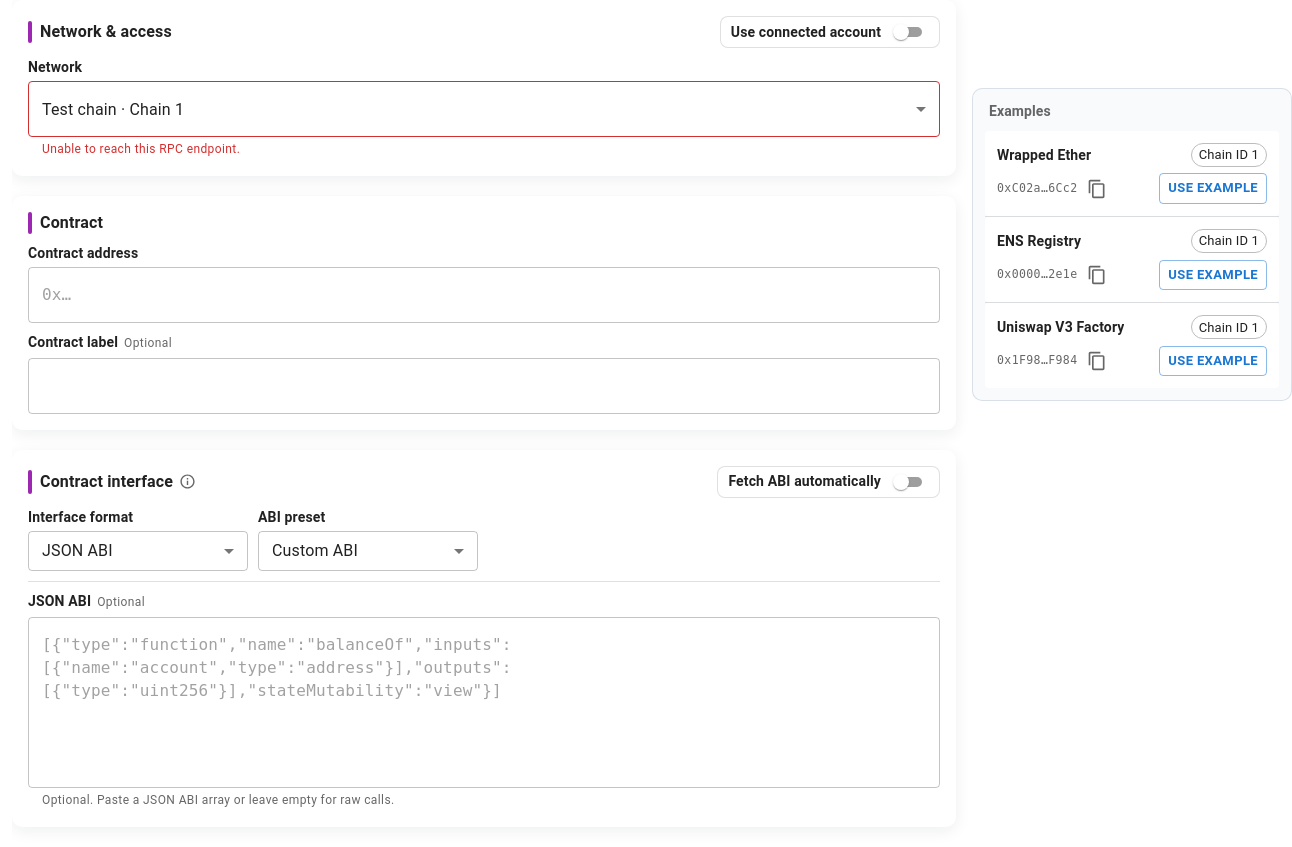
it: ContractManager › keeps browser wallet access selected when an example fills the form
Click the checkbox labelled "Use connected account".
click(830, 32)  # box [720,16,940,48]
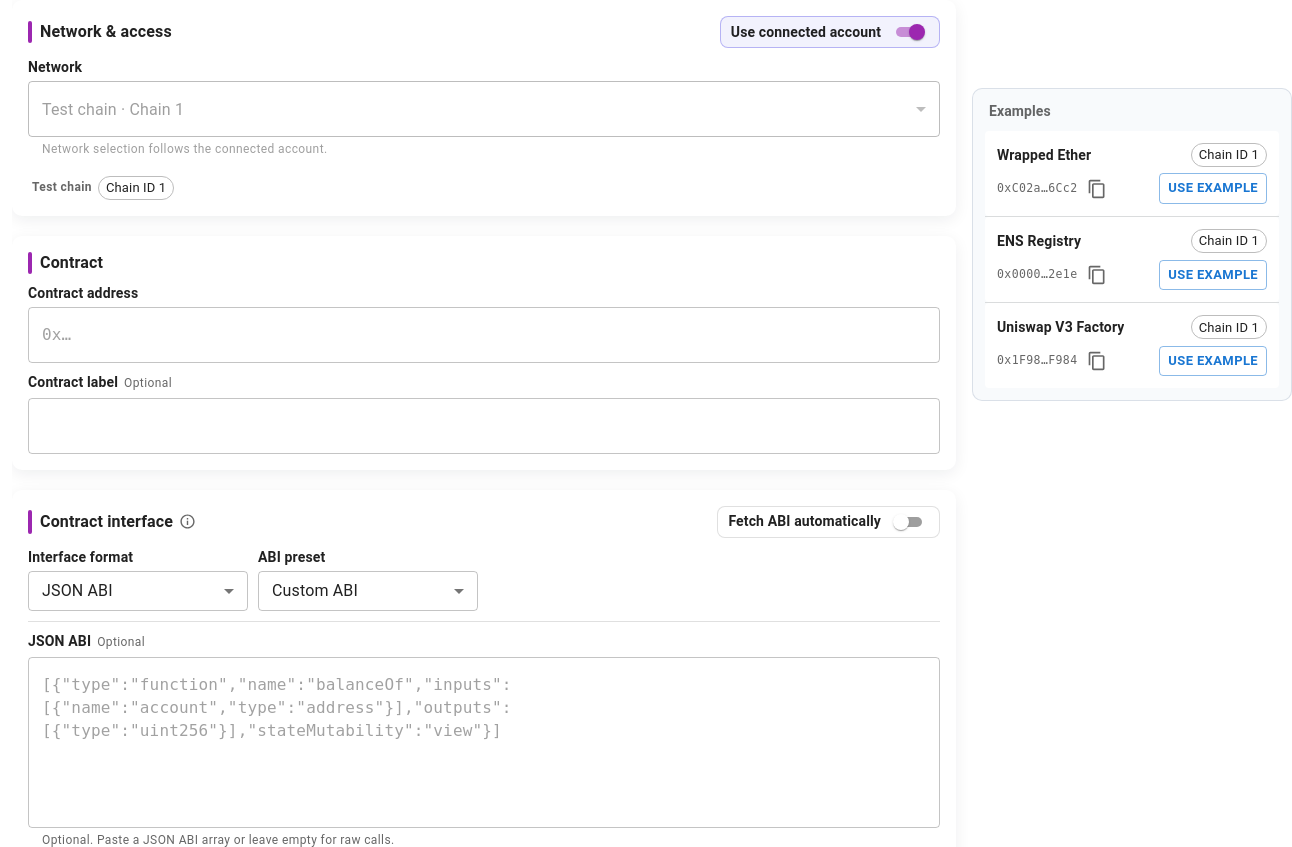
expect the checkbox labelled "Use connected account" is checked: met, box [720,16,940,48]
Click the button "Use example" next to "6Cc2".
click(1213, 189)  # box [1159,173,1267,204]
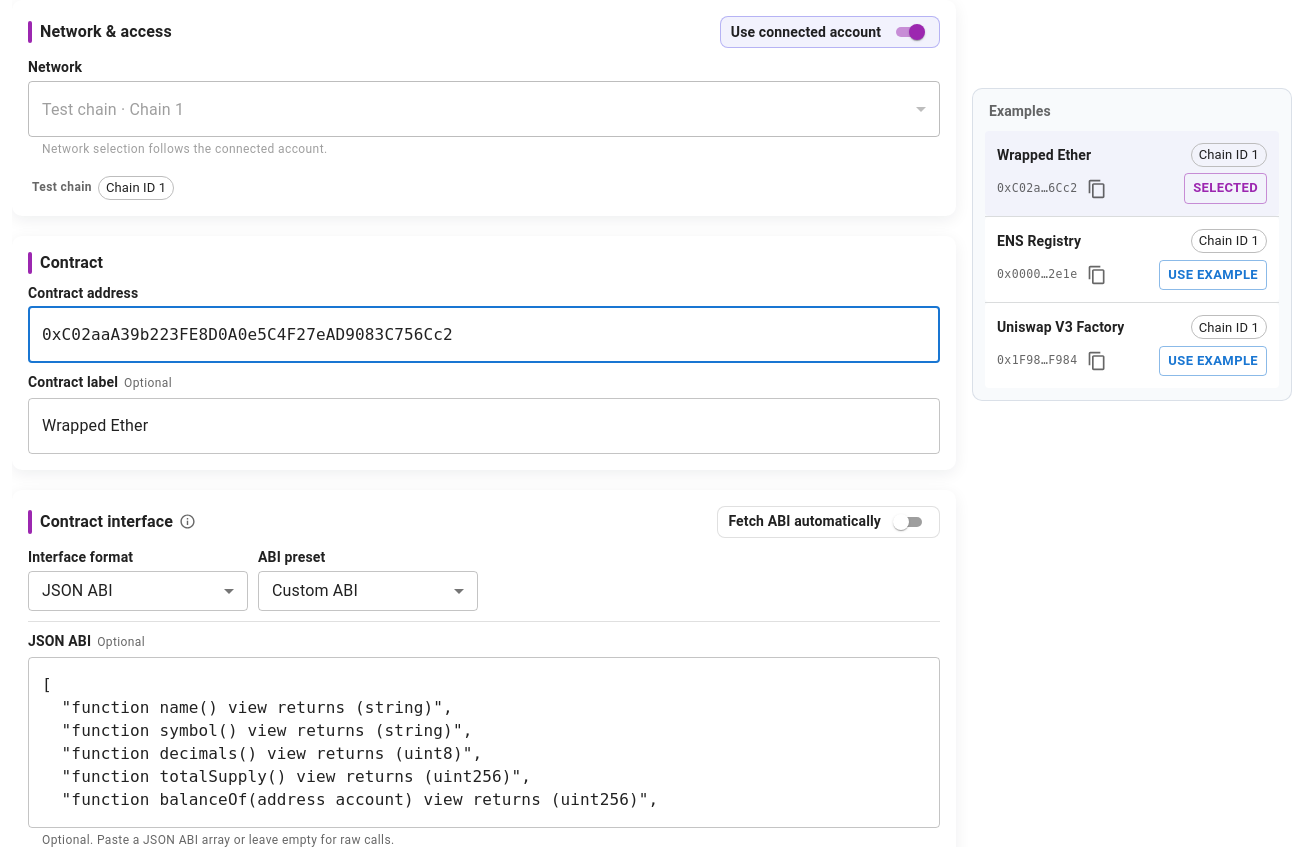
expect the checkbox labelled "Use connected account" is checked: met, box [720,16,940,48]
expect the field labelled "Contract address" holds "0xC02aaA39b223FE8D0A0e5C4F27eAD9083C756Cc2": met, box [28,307,940,363]
